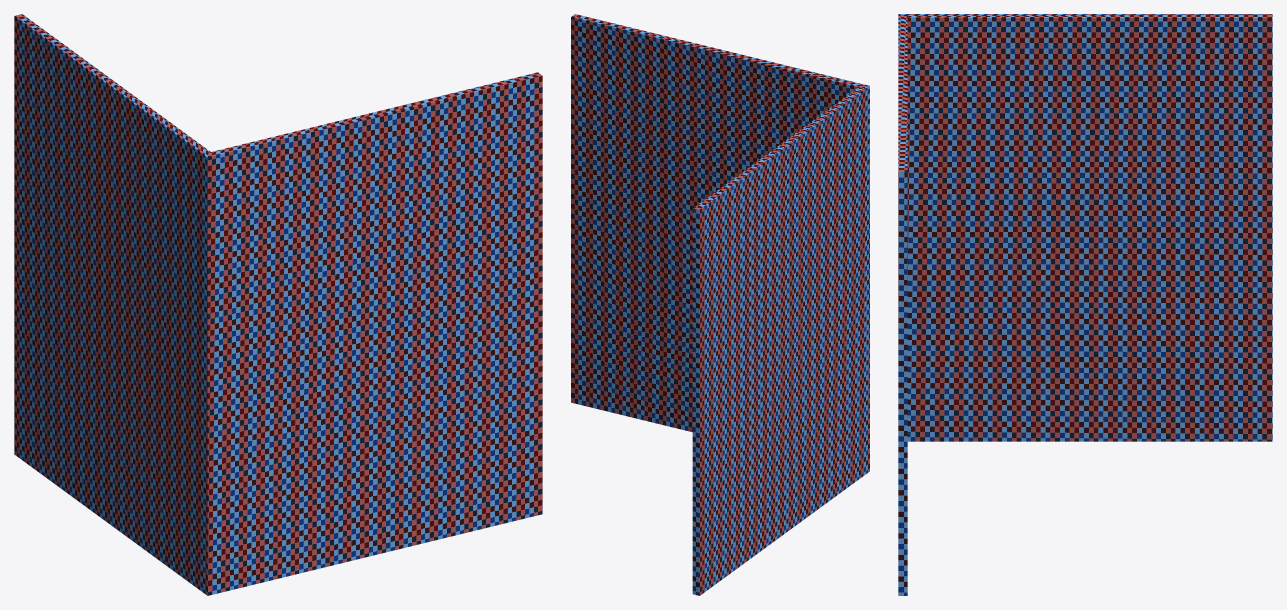
File: Wall_turn.fbx
3 views of the same model, side by side, from view 1: azimuth 30°, elevation 25°; view 2: azimuth 150°, elevation 25°; view 3: azimuth 270°, elevation 25° (orthographic). The views are drawn at different scales.
Parts seen in each view (by area): view 1: wall_turn_01; view 2: wall_turn_01; view 3: wall_turn_01.
Boxes of the visible parts, box(x1,y1,x2,y2) form: wall_turn_01: box(14, 14, 542, 595); wall_turn_01: box(571, 14, 869, 595); wall_turn_01: box(898, 14, 1272, 595).
Bounding box in the file's own units: 400 × 500 × 400.
1 material, 1 textured.
